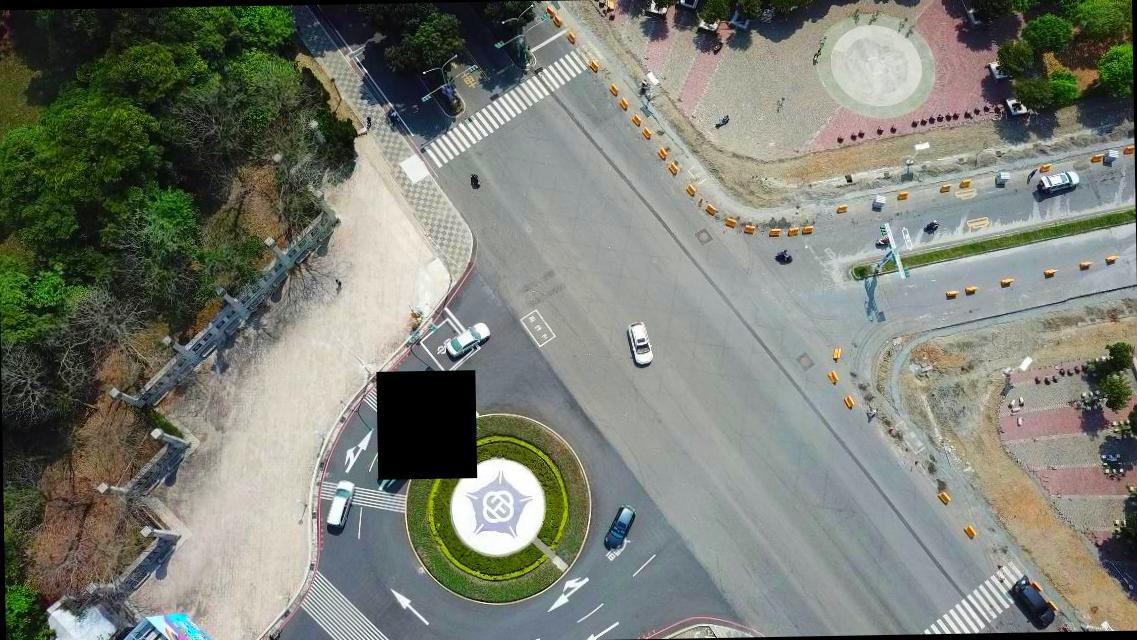vehicle: (1010, 574, 1056, 628), (602, 504, 637, 550), (445, 322, 492, 356), (326, 479, 354, 527), (626, 321, 653, 365), (1038, 171, 1080, 192)
